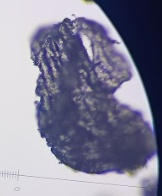microplastic: (27, 17, 160, 177), (73, 16, 134, 96), (141, 176, 159, 196)
